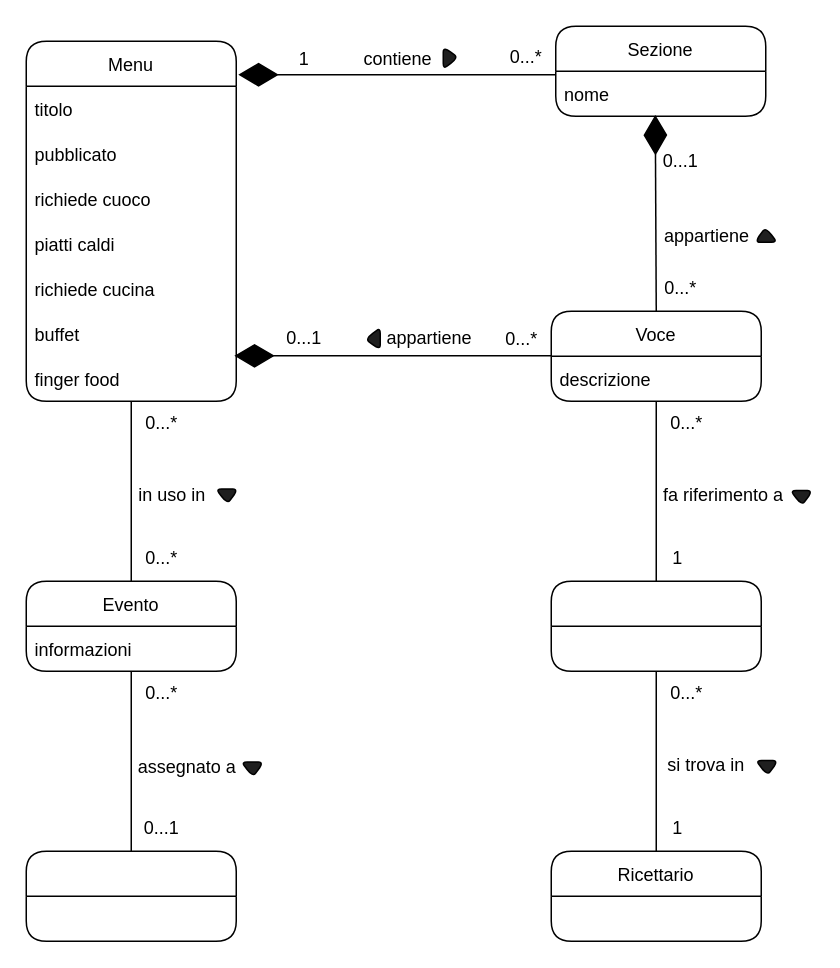
The diagram is 840 pixels wide and 968 high, and some of its shapes have lost their labels. Each missing label, with the centre of its shape:
Chef: the point at 130,895
Ricetta: the point at 655,625
